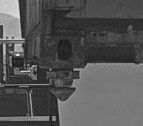Copy of twist_lock_2: (39, 61, 86, 105)
